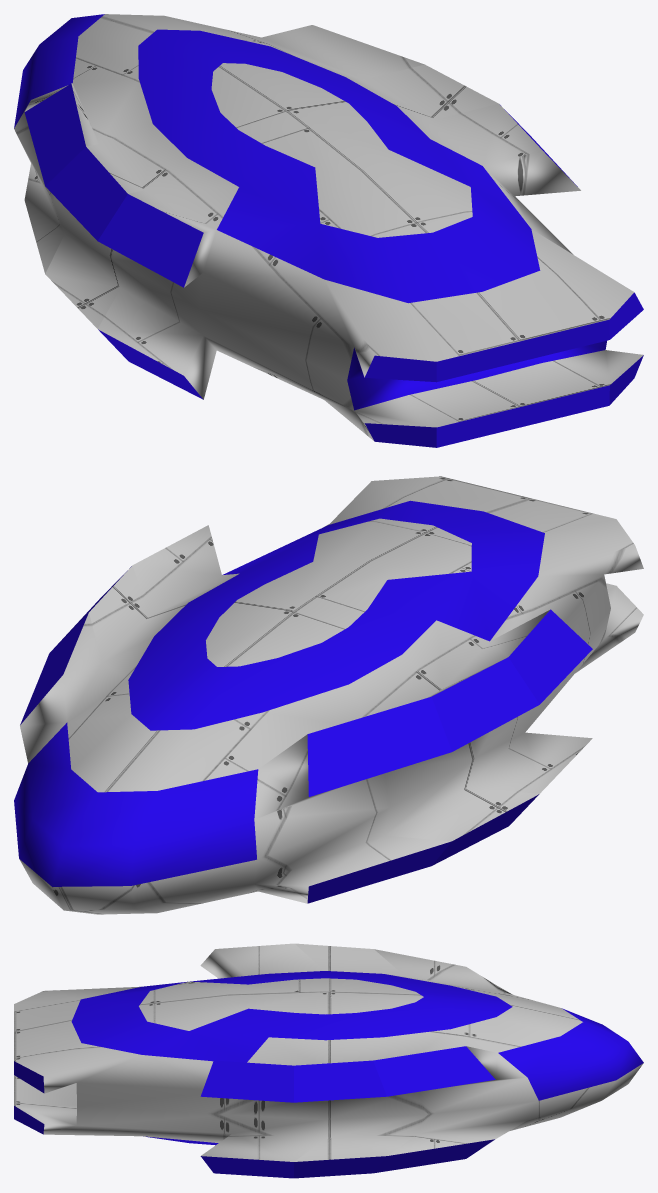
File: Ship4.fbx
3 views of the same model, one above another, from view 1: azimuth 30°, elevation 25°; view 2: azimuth 150°, elevation 25°; view 3: azimuth 270°, elevation 25° (orthographic). The views are drawn at different scales.
Visible parts, largest first — view 1: pSphere2; view 2: pSphere2; view 3: pSphere2.
Part boxes in pixels (left/top/right/bottom): pSphere2: left=14, top=14, right=643, bottom=447; pSphere2: left=14, top=476, right=643, bottom=914; pSphere2: left=14, top=943, right=643, bottom=1178.
Size of the model in its own units: 9.66 by 4.37 by 18.03.
